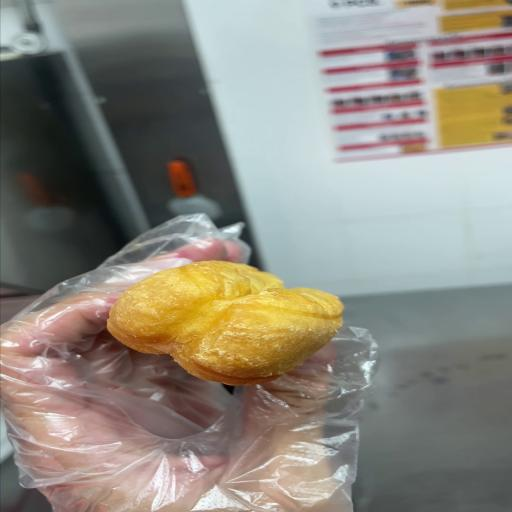brand_golden_good: (107, 261, 342, 385)
